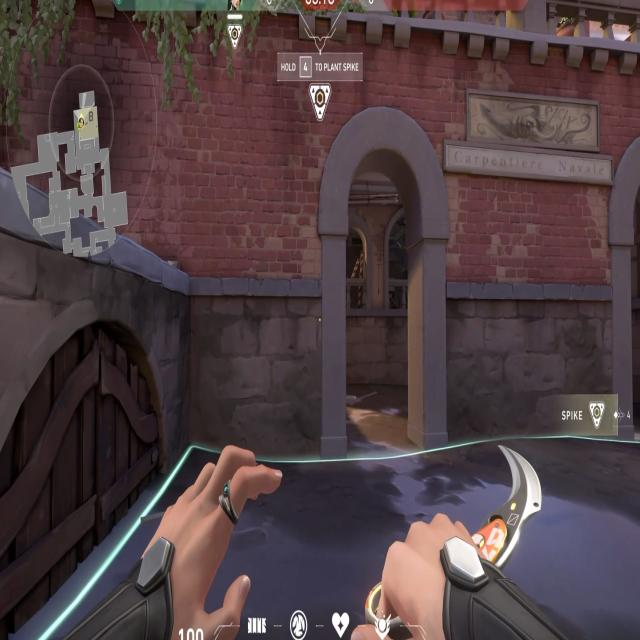B_Boathouse: (313, 74, 465, 478)
